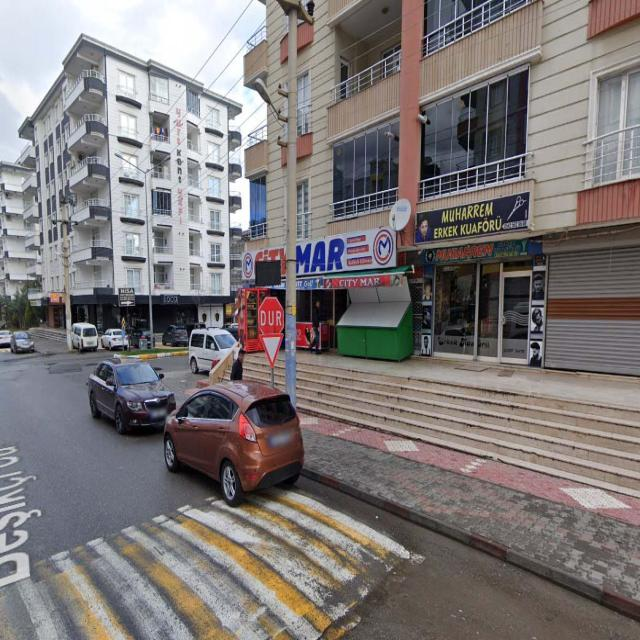dur: (257, 297, 285, 336)
